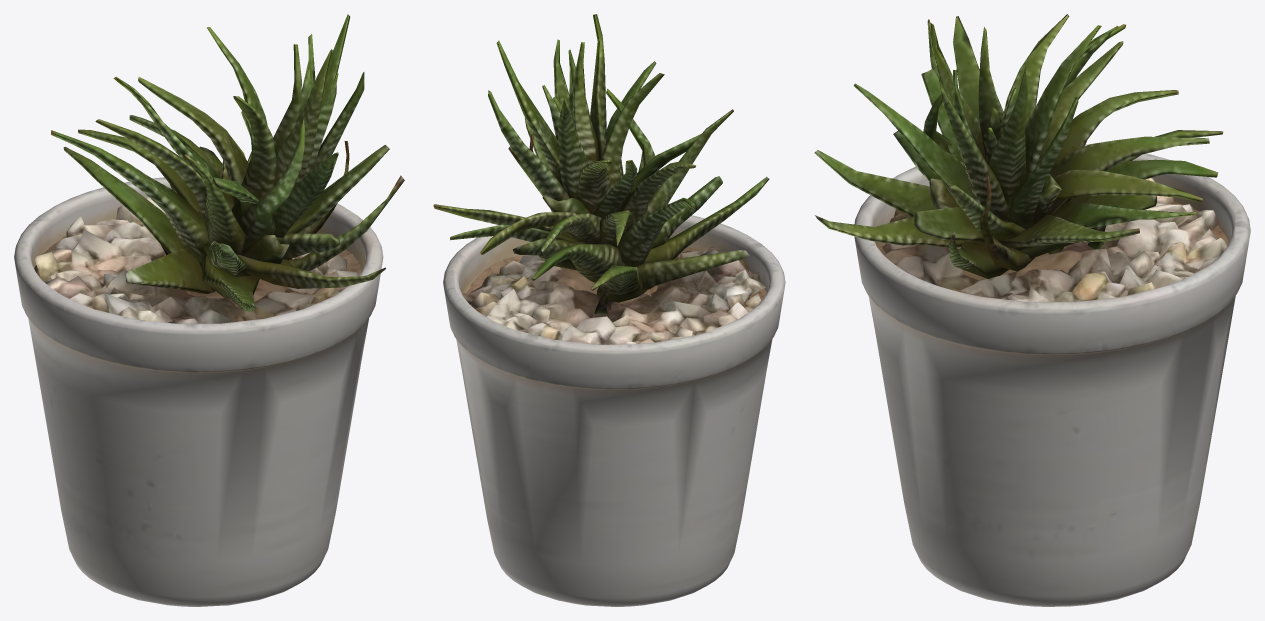
Rendered from potted_plant_04.glb.
The picture shows the model from 3 angles, left to right: view 1: azimuth 30°, elevation 25°; view 2: azimuth 150°, elevation 25°; view 3: azimuth 270°, elevation 25°; orthographic projection. The views are drawn at different scales.
Visible parts, largest first — view 1: potted_plant_04_pot, potted_plant_04_plant, potted_plant_04_ground, potted_plant_04_dirt; view 2: potted_plant_04_pot, potted_plant_04_plant, potted_plant_04_ground, potted_plant_04_dirt; view 3: potted_plant_04_pot, potted_plant_04_plant, potted_plant_04_ground, potted_plant_04_dirt.
Part boxes in pixels (x1,y1,x2,y2): potted_plant_04_pot: (14, 177, 383, 606); potted_plant_04_plant: (51, 14, 404, 311); potted_plant_04_ground: (34, 196, 357, 323); potted_plant_04_dirt: (34, 236, 362, 307); potted_plant_04_pot: (443, 215, 785, 606); potted_plant_04_plant: (433, 14, 769, 313); potted_plant_04_ground: (462, 247, 766, 344); potted_plant_04_dirt: (462, 247, 766, 307); potted_plant_04_pot: (854, 144, 1250, 606); potted_plant_04_plant: (814, 14, 1223, 278); potted_plant_04_ground: (882, 177, 1227, 301); potted_plant_04_dirt: (875, 200, 1228, 297).
Bounding box in the file's own units: 0.1679 × 0.2672 × 0.1845.
1 material, 1 textured.
